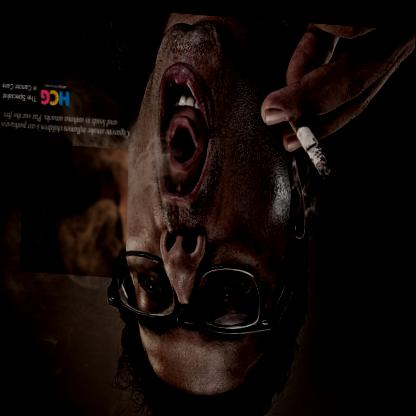smoke: (22, 142, 130, 277)
